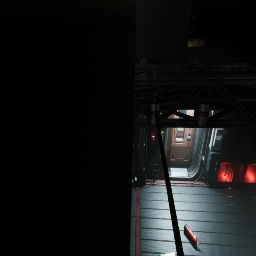0: (158, 252, 175, 256), (134, 111, 134, 115)
EmergencyPhone ,: (158, 129, 164, 142)
FireAlarm ,: (151, 131, 155, 141)
FireExtinguisher ]: (184, 224, 201, 247)
SafetySwitchPanel ,: (209, 118, 226, 150)
